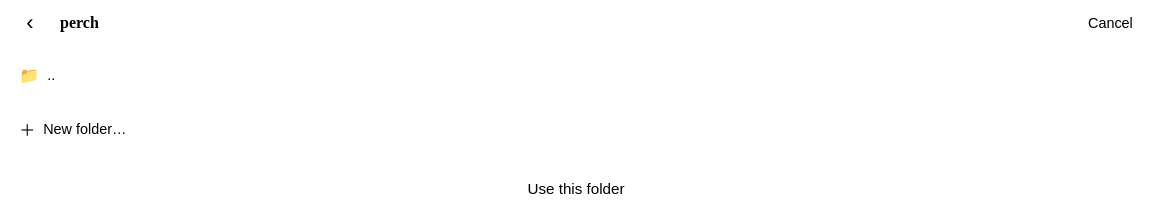
Scenario: FolderPicker (single root) › disables Create for an invalid folder name
The width and height of the screenshot is (1152, 211).
Click the button "＋ New folder…".
click(85, 129)  # box [8,107,1144,151]
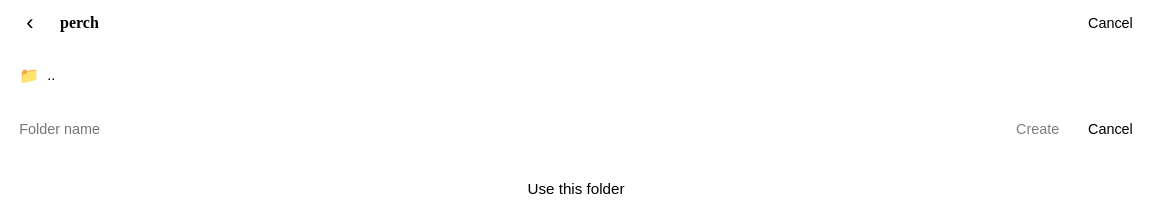
Expected: the button "Create" is disabled, [1005,107,1070,151]
Type "a/b" into the field labelled "Folder name".
click(503, 129); type("a/b")  # box [8,107,998,151]
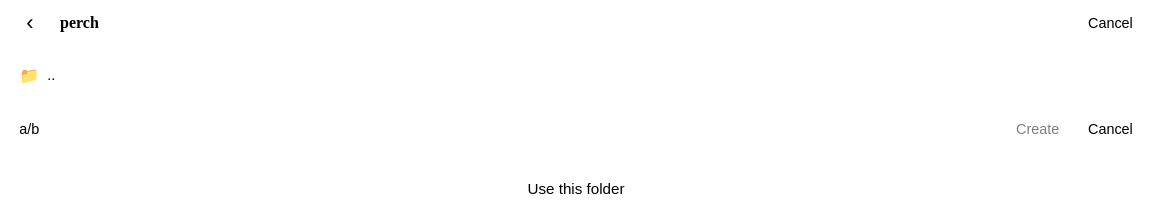
Expected: the button "Create" is disabled, [1005,107,1070,151]
Replace the text in the field named "Folder name" with "ok" at (503, 129), box [8,107,998,151]
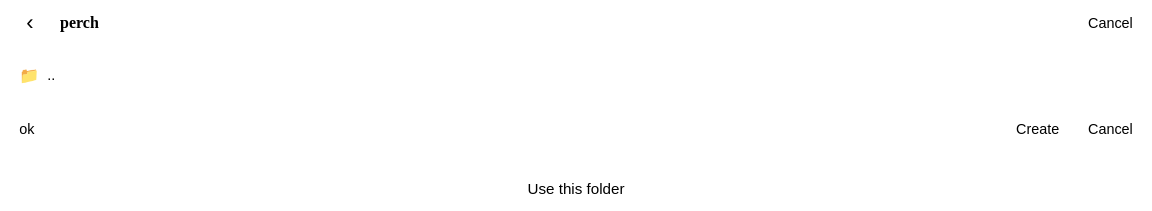
Expected: the button "Create" is enabled, [1005,107,1070,151]
